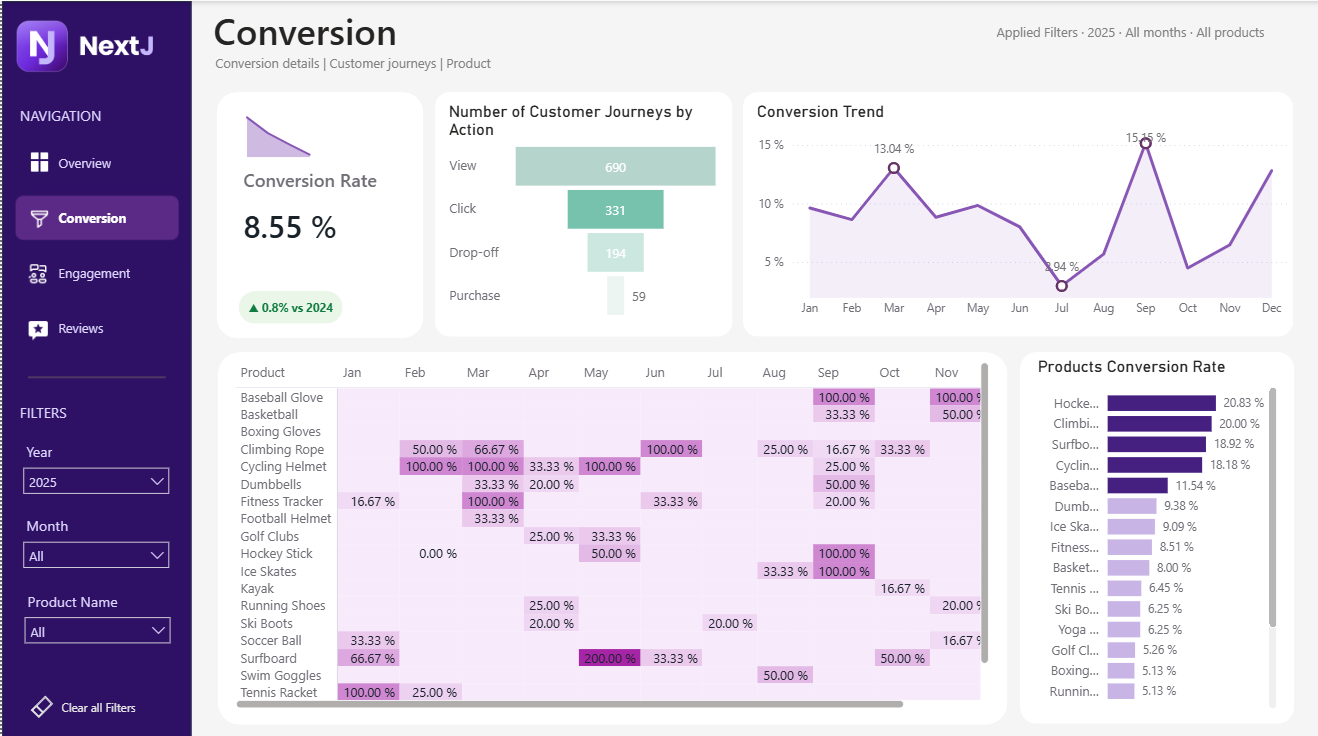

The dashboard page shown, as its layout file describes it:
{"tool":"powerbi","page":{"name":"Conversion Details","canvas":[1400,820],"ordinal":1},"visuals":[{"type":"textbox","box":[0,0,1400.3,74.4],"z":0},{"type":"slicer","fields":{"Values":["dim_product.ProductName"]},"box":[0,74.4,177.4,745.2],"z":1000},{"type":"advancedSlicerVisual","fields":{"Values":["Date.Year"]},"box":[310.4,0,234.6,74.4],"z":2000},{"type":"advancedSlicerVisual","fields":{"Values":["Date.MonthNameShort"]},"box":[556.4,0,843.9,74.4],"z":3000},{"type":"cardVisual","fields":{"Data":["_mesures.Conversion Rate"]},"box":[192.9,92.9,174.3,217.1],"z":4000},{"type":"lineChart","title":"Monthly Conversion Rate ","fields":{"Y":["_mesures.Conversion Rate"],"Category":["Date.MonthNameShort"]},"box":[688.6,92.9,711.4,217.1],"z":5000},{"type":"clusteredBarChart","title":"Product Conversion Rate ","fields":{"Category":["dim_product.ProductName"],"Y":["_mesures.Conversion Rate"]},"box":[1098.6,325.7,301.4,494.3],"z":6000},{"type":"funnel","title":" Number of Customer Journeys by Action","fields":{"Category":["fact_customer_journey.Action"],"Y":["CountNonNull(fact_customer_journey.CustomerID)"]},"box":[384.3,92.9,290,217.1],"z":7000},{"type":"pivotTable","fields":{"Values":["_mesures.Conversion Rate"],"Rows":["dim_product.ProductName"],"Columns":["Date.MonthNameShort"]},"box":[192.9,325.7,892.9,494.3],"z":8000}]}

Visuals, with their boxes on the page's 1400x820 design canvas (x1, y1, x2, y2). These are canvas units, not pixel positions in the 1318x736 screenshot, which may show the page scaled, cropped or inside an application window:
textbox: <box>0,0,1400,74</box>
slicer - dim_product.ProductName: <box>0,74,177,820</box>
advancedSlicerVisual - Date.Year: <box>310,0,545,74</box>
advancedSlicerVisual - Date.MonthNameShort: <box>556,0,1400,74</box>
cardVisual - _mesures.Conversion Rate: <box>193,93,367,310</box>
"Monthly Conversion Rate " lineChart: <box>689,93,1400,310</box>
"Product Conversion Rate " clusteredBarChart: <box>1099,326,1400,820</box>
" Number of Customer Journeys by Action" funnel: <box>384,93,674,310</box>
pivotTable - _mesures.Conversion Rate x dim_product.ProductName: <box>193,326,1086,820</box>
